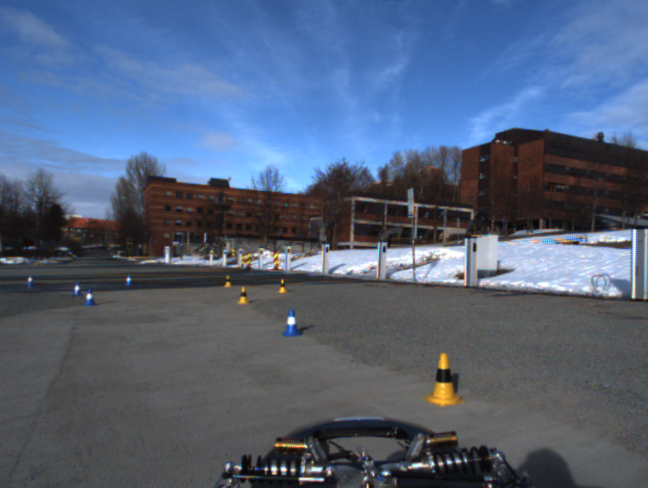cone-small-blue: (282, 309, 302, 337), (83, 288, 97, 307), (71, 282, 83, 296), (123, 274, 135, 287), (25, 275, 35, 288)
cone-small-yellow: (422, 352, 464, 407), (237, 286, 251, 306), (277, 279, 288, 294), (223, 276, 233, 287)
